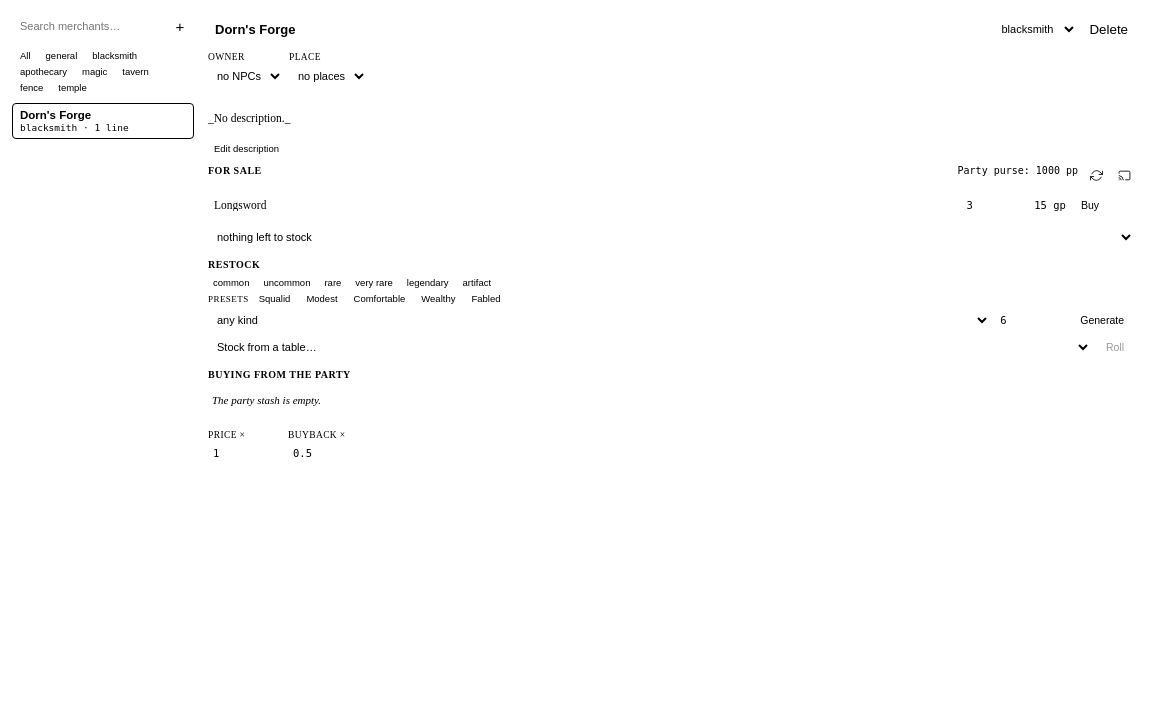
Scenario: Merchants - generation › lists rolled names with no catalogue match so the GM can add them
Select "Smithy stock" in the dropdown named "Roll table to stock from" at [649, 347], box 208,335 -> 1091,359
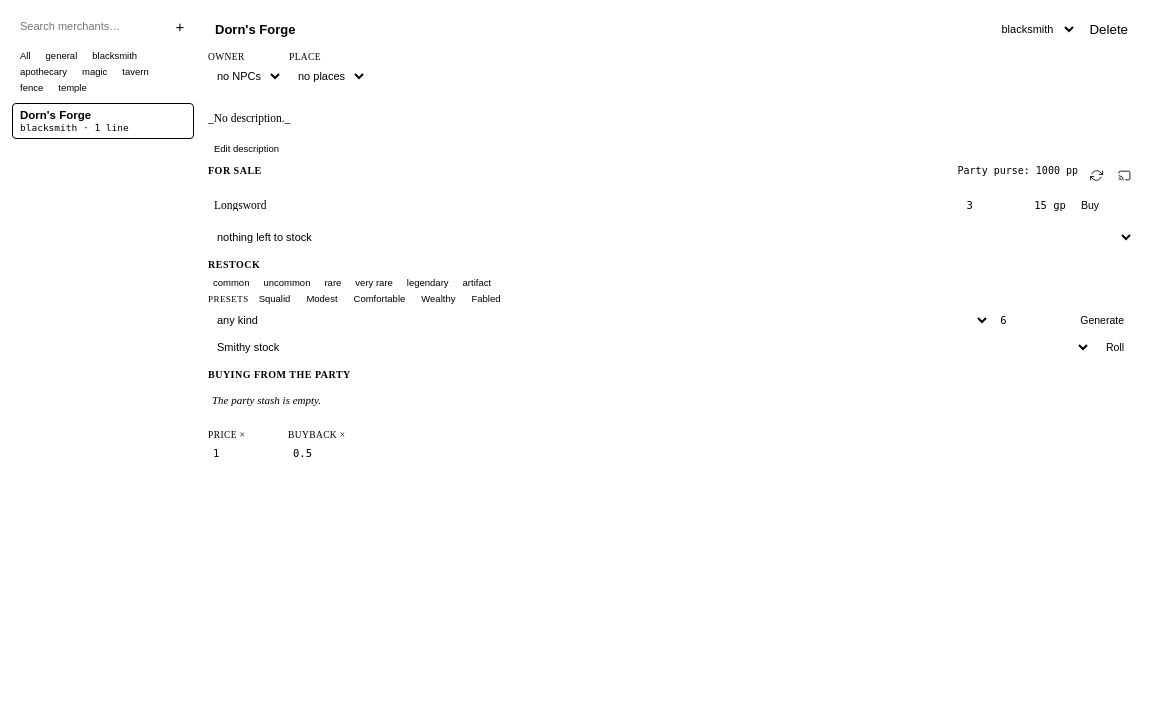
Click the button "Roll" at [1115, 347], box 1096,335 -> 1134,359
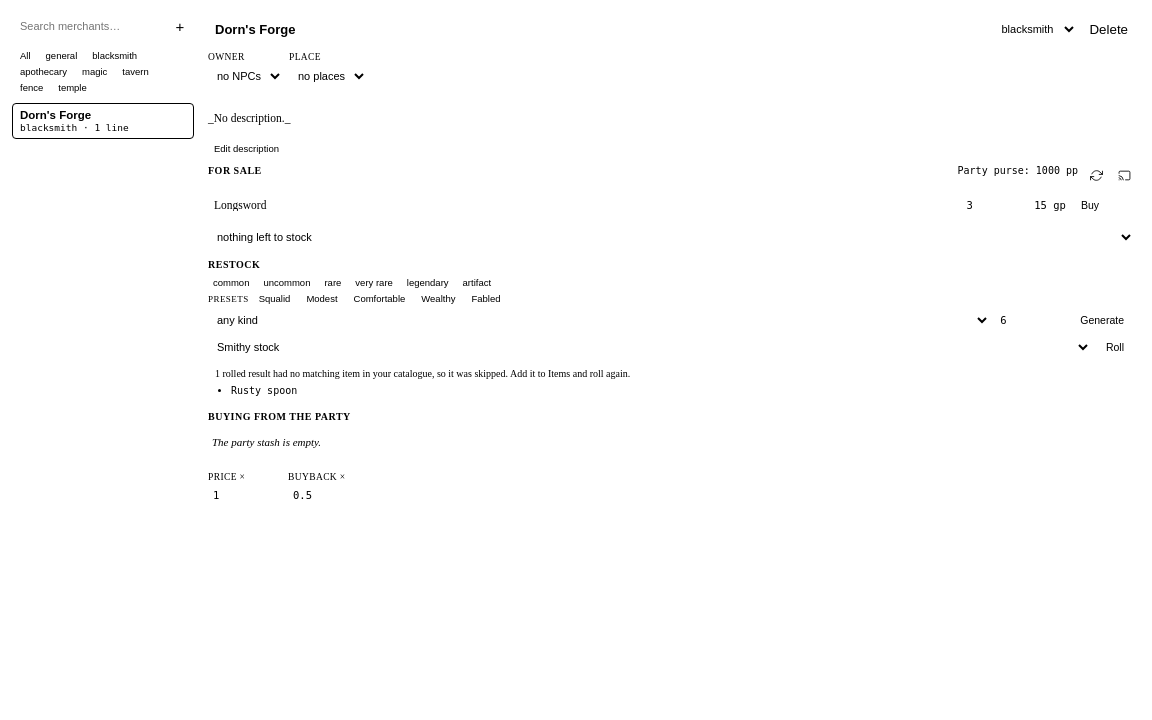
Check: the list item "Rusty spoon" is shown, box 231,385 -> 297,396
Check: the text "no matching item in your catalogue" is shown, box 270,368 -> 448,379
